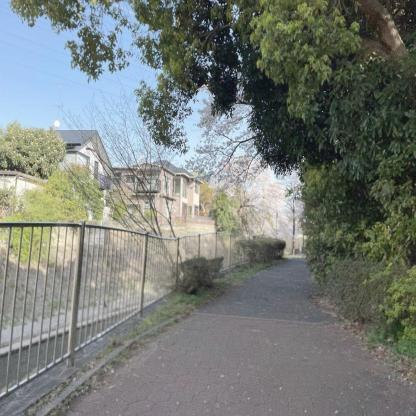Someiyoshino: (183, 88, 262, 184), (211, 154, 296, 237)
